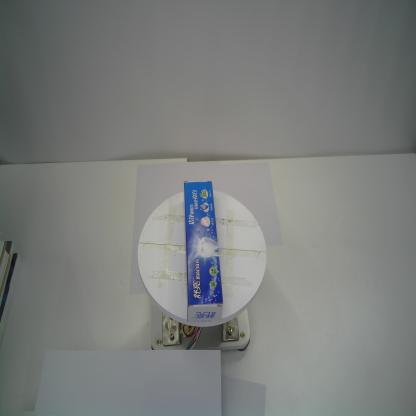Personal Hygiene: (182, 176, 224, 326)
